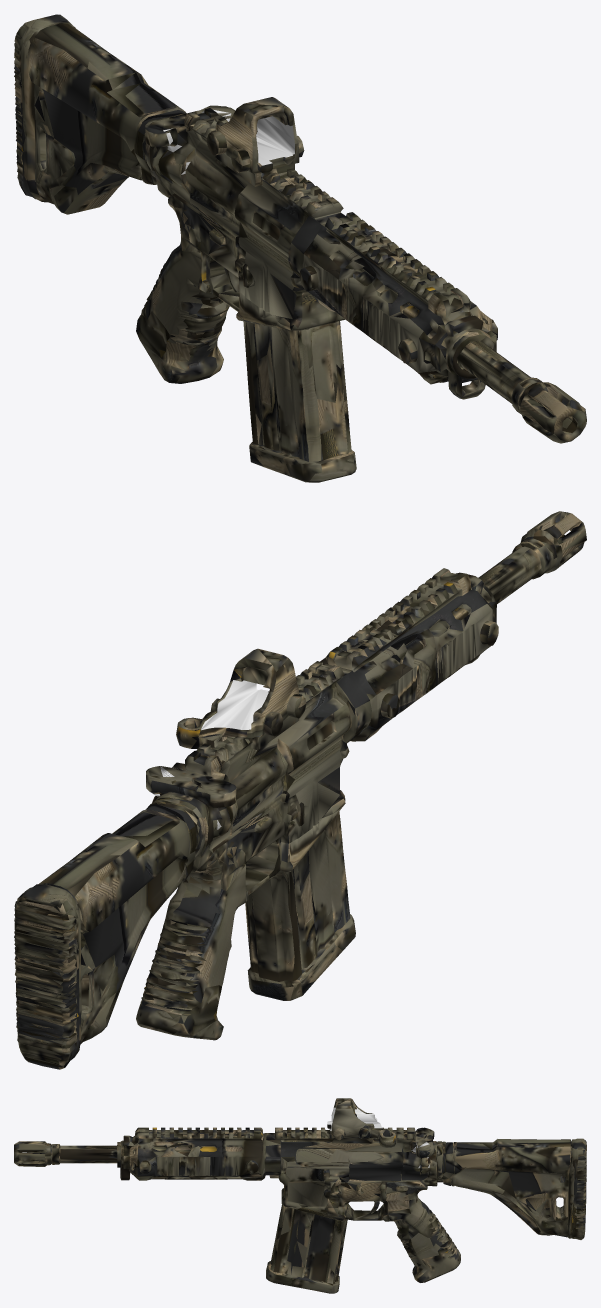
3 renders of one model, top to bottom at view 1: azimuth 30°, elevation 25°; view 2: azimuth 150°, elevation 25°; view 3: azimuth 270°, elevation 25°, orthographic. The views are drawn at different scales.
Visible parts, largest first — view 1: Body, Magazine, ChargingHandle; view 2: Body, Magazine, ChargingHandle; view 3: Body, Magazine, ChargingHandle.
Part boxes in pixels (left/top/right/bottom): Body: left=14, top=14, right=586, bottom=443; Magazine: left=236, top=292, right=356, bottom=482; ChargingHandle: left=145, top=106, right=235, bottom=175; Body: left=14, top=511, right=586, bottom=1069; Magazine: left=245, top=807, right=355, bottom=1000; ChargingHandle: left=146, top=766, right=237, bottom=828; Body: left=14, top=1098, right=586, bottom=1282; Magazine: left=266, top=1204, right=352, bottom=1293; ChargingHandle: left=402, top=1127, right=430, bottom=1168.
Size of the model in its own units: 0.1287 by 0.4703 by 1.31.
